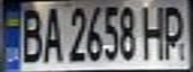2: (63, 1, 87, 63)
5: (103, 1, 121, 61)
6: (84, 1, 106, 62)
8: (118, 1, 142, 62)
A: (36, 2, 66, 64)
B: (18, 2, 45, 64)
H: (139, 2, 169, 61)
P: (157, 1, 193, 61)
